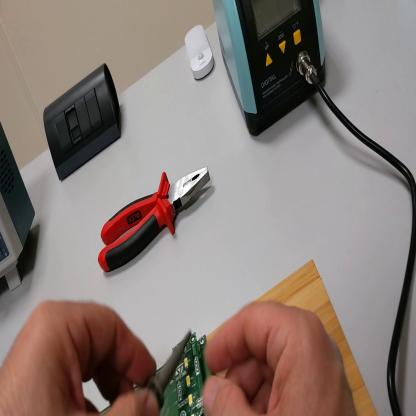hand: (202, 294, 359, 415), (2, 297, 160, 416)
low voltage board: (137, 334, 219, 416)
oscilloscope: (2, 121, 38, 294)
oscilloscope probe tip: (149, 328, 194, 410)
pliers: (98, 171, 213, 276)
welder station: (214, 1, 330, 139)
working area: (252, 271, 377, 414)
